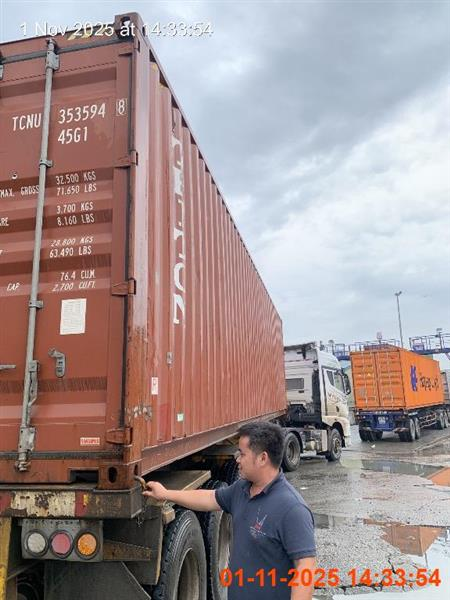crack: (0, 13, 292, 599), (140, 421, 317, 599), (348, 345, 449, 442), (278, 341, 352, 470)
